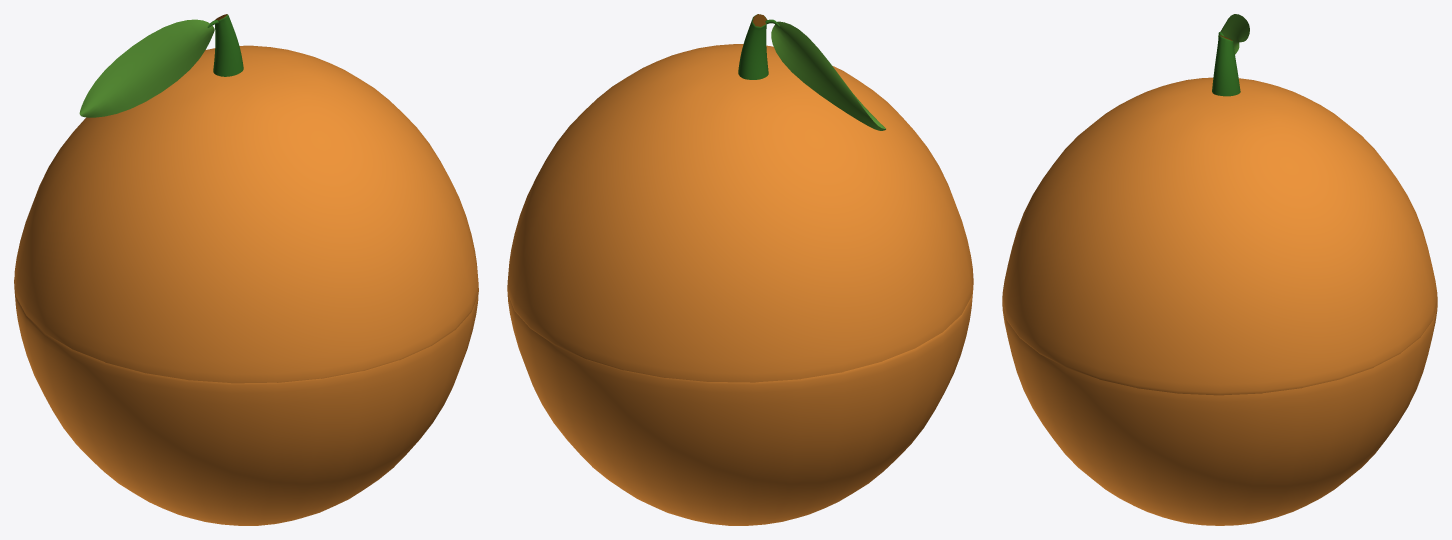
Rendered from ABC-Orange.glb.
3 renders of one model, left to right at view 1: azimuth 30°, elevation 25°; view 2: azimuth 150°, elevation 25°; view 3: azimuth 270°, elevation 25°, orthographic. The views are drawn at different scales.
Visible parts, largest first — view 1: Flavedo.001, Flavedo.002, Leaf, Petiole; view 2: Flavedo.001, Flavedo.002, Leaf, Petiole; view 3: Flavedo.001, Flavedo.002, Petiole, Leaf.
Part boxes in pixels (x1,y1,x2,y2): Flavedo.001: (14,45,478,383); Flavedo.002: (14,278,478,525); Leaf: (79,19,214,117); Petiole: (213,14,243,76); Flavedo.001: (507,44,973,382); Flavedo.002: (507,278,973,525); Leaf: (771,21,885,130); Petiole: (738,14,768,79); Flavedo.001: (1002,77,1437,395); Flavedo.002: (1002,302,1437,525); Petiole: (1212,35,1240,96); Leaf: (1218,14,1249,54).
Bounding box in the file's own units: 1.84 × 2.16 × 1.84.
